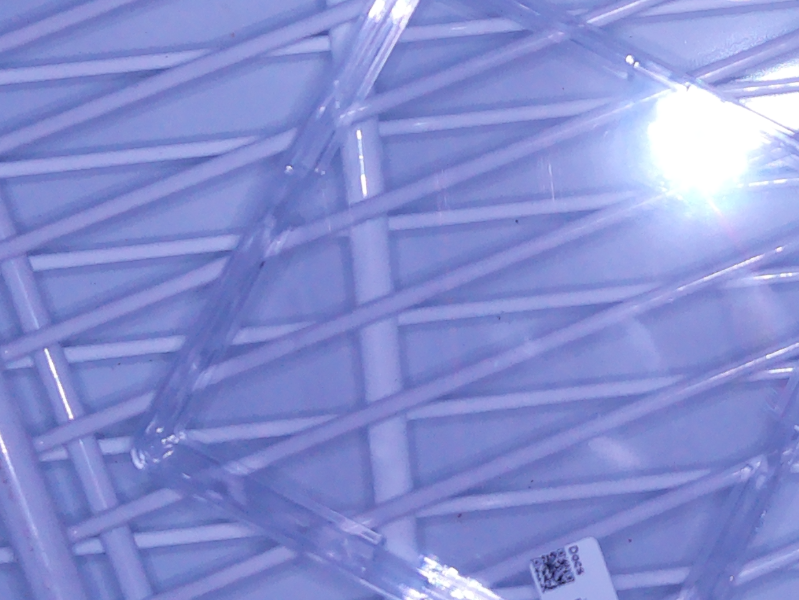plate: (129, 1, 799, 597)
